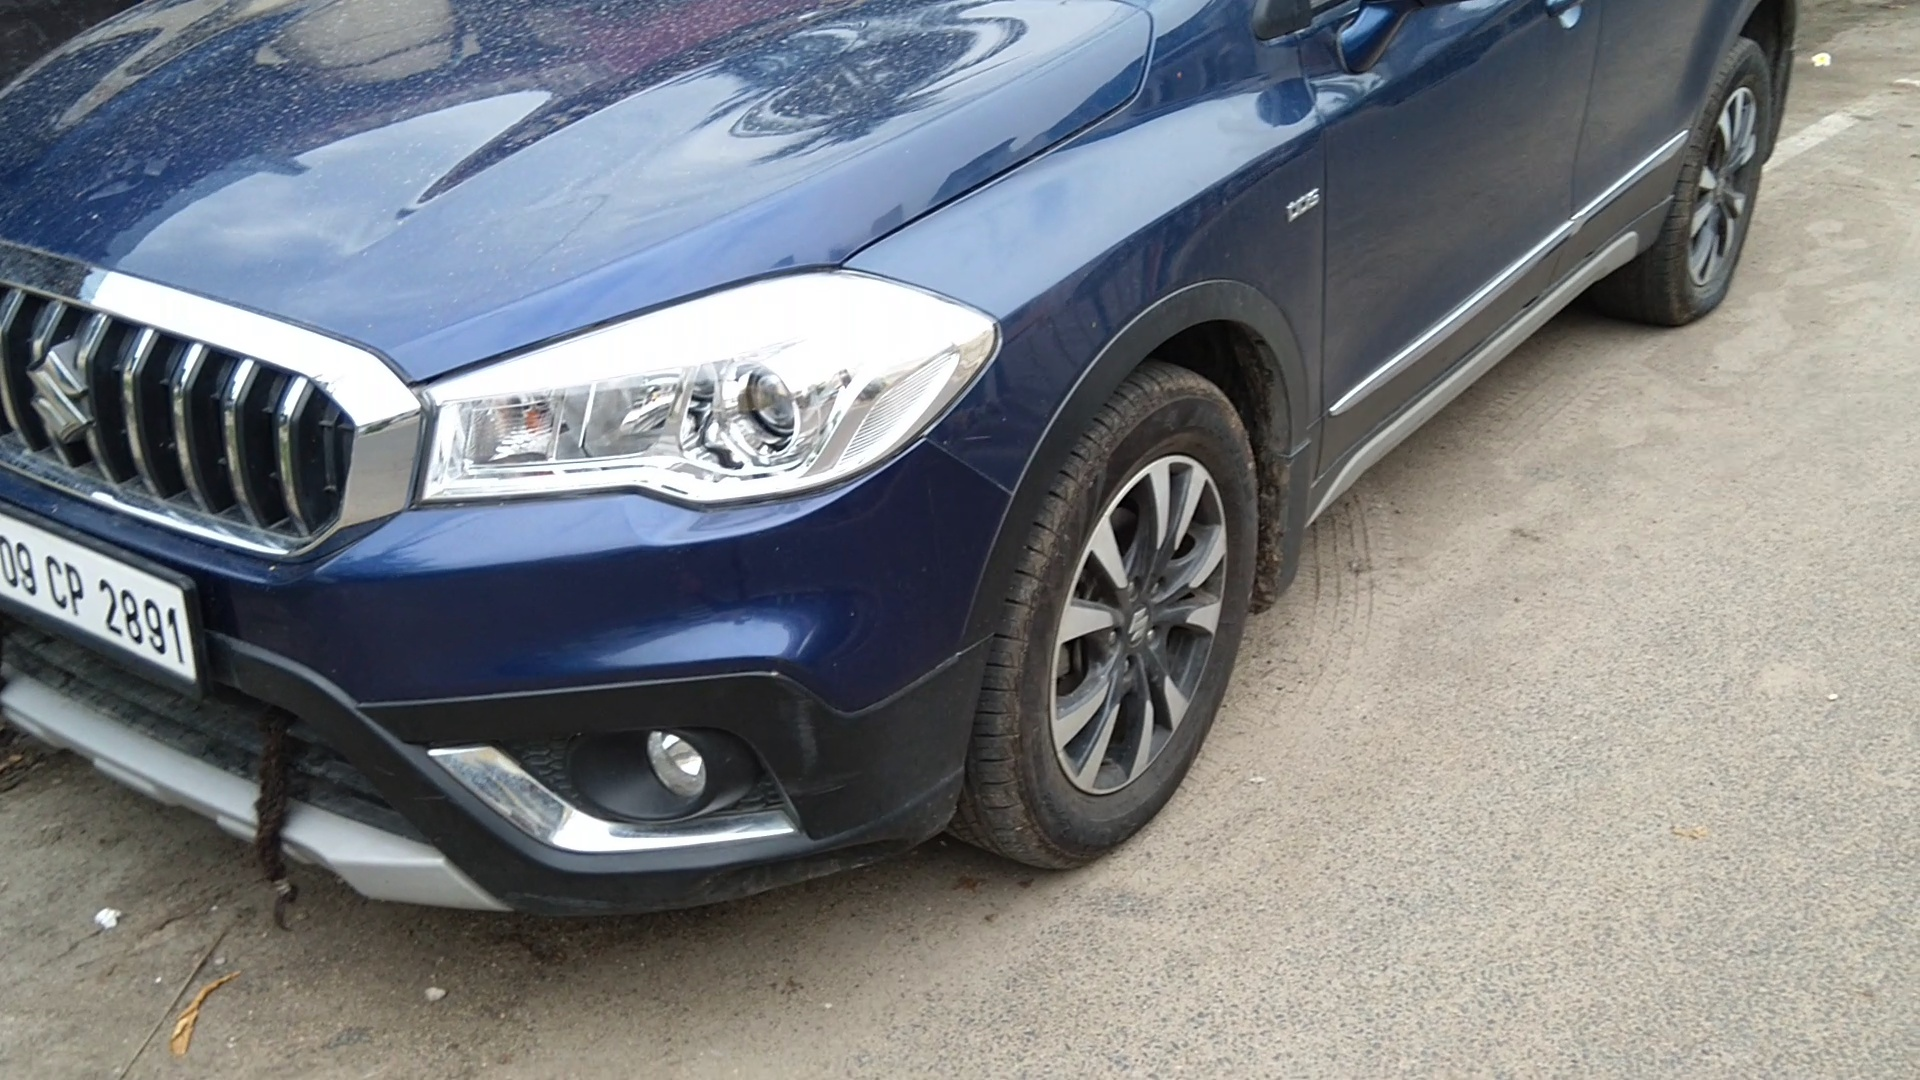alloy_wheel: (992, 361, 1267, 905), (1667, 34, 1776, 328)
headlamp: (411, 249, 1004, 546)
